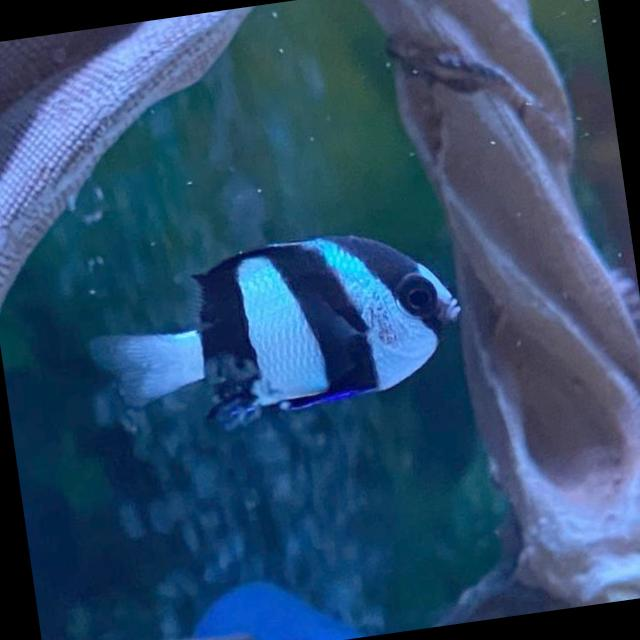Three_striped DasmselFish: (90, 209, 472, 442)
